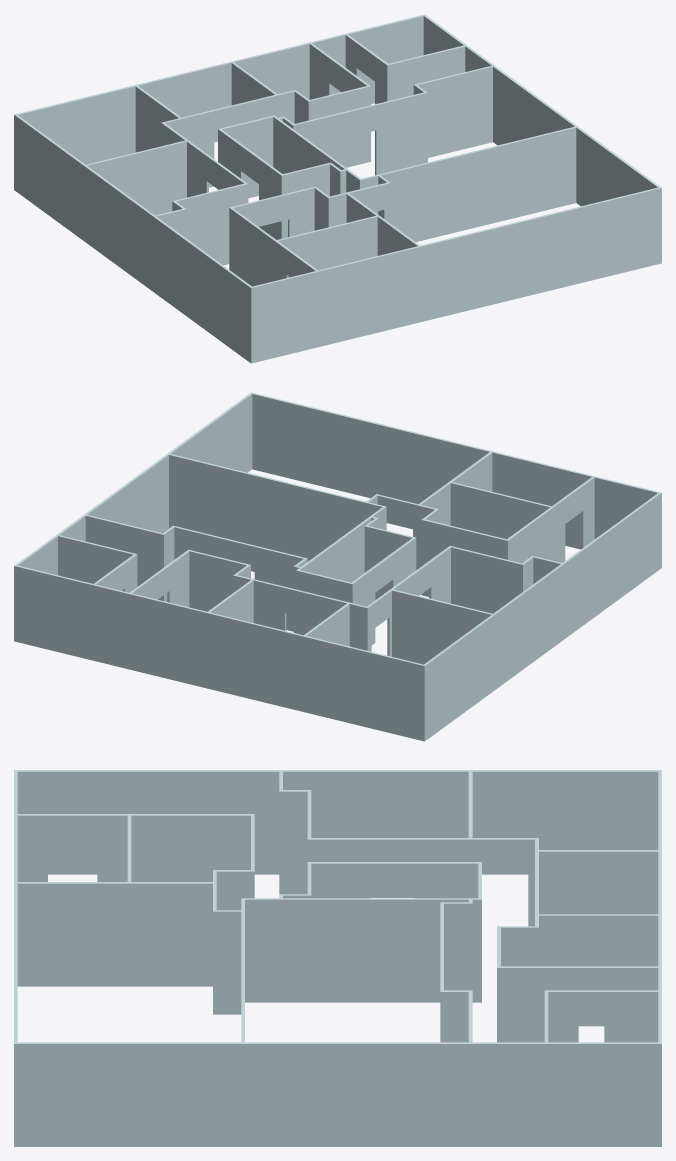
The model's file is floorplan91.dae.
3 renders of one model, top to bottom at view 1: azimuth 30°, elevation 25°; view 2: azimuth 150°, elevation 25°; view 3: azimuth 270°, elevation 25°, orthographic. The views are drawn at different scales.
Visible parts, largest first — view 1: FloorBoundary, Room_2, Room_5, Room_3, Room_9, Room_6, Room_1, Room_7, Room_8, Room_4, Room_0; view 2: FloorBoundary, Room_2, Room_5, Room_3, Room_9, Room_7, Room_0, Room_4, Room_6, Room_1, Room_8; view 3: FloorBoundary, Room_5, Room_2, Room_3, Room_9, Room_8, Room_4, Room_0, Room_1, Room_7, Room_6.
Boxes of the visible parts, x1,y1,x2,y2 form: FloorBoundary: [14, 15, 660, 363]; Room_2: [345, 126, 661, 322]; Room_5: [276, 65, 576, 223]; Room_3: [14, 85, 187, 240]; Room_9: [83, 140, 248, 291]; Room_6: [274, 216, 421, 347]; Room_1: [229, 186, 379, 286]; Room_7: [134, 62, 278, 187]; Room_8: [218, 115, 347, 239]; Room_4: [345, 14, 467, 104]; Room_0: [230, 42, 370, 167]; FloorBoundary: [14, 393, 661, 739]; Room_2: [167, 392, 493, 569]; Room_5: [85, 453, 386, 633]; Room_3: [302, 589, 495, 741]; Room_9: [390, 546, 564, 690]; Room_7: [206, 579, 350, 712]; Room_0: [128, 549, 254, 688]; Room_4: [14, 535, 137, 660]; Room_6: [450, 451, 595, 562]; Room_1: [417, 482, 553, 596]; Room_8: [296, 516, 416, 645]; FloorBoundary: [14, 770, 661, 1146]; Room_5: [241, 898, 472, 1146]; Room_2: [14, 882, 244, 1146]; Room_3: [468, 770, 661, 926]; Room_9: [279, 770, 472, 898]; Room_8: [279, 862, 481, 1002]; Room_4: [544, 990, 661, 1146]; Room_0: [497, 914, 661, 1042]; Room_1: [127, 814, 254, 986]; Room_7: [535, 850, 661, 949]; Room_6: [14, 814, 131, 986].
Size of the model in its own units: 17.1 by 17.1 by 3.
